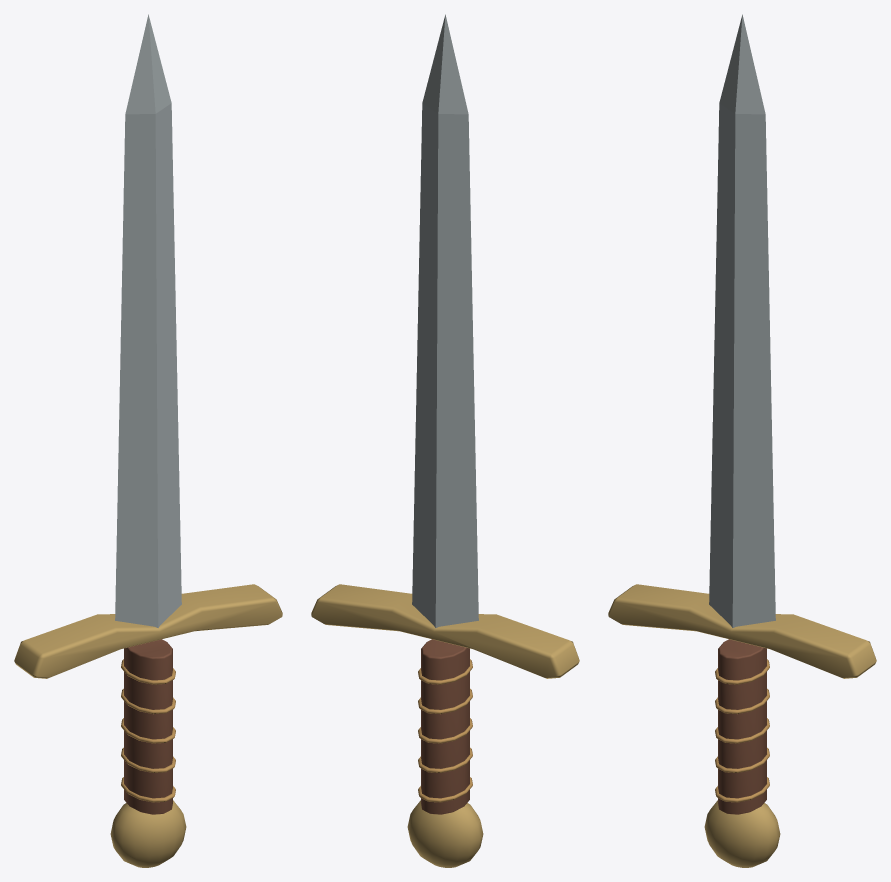
File: P024_foam_sword_rebuilt.glb
3 renders of one model, left to right at view 1: azimuth 30°, elevation 25°; view 2: azimuth 150°, elevation 25°; view 3: azimuth 330°, elevation 25°, orthographic.
Parts seen in each view (by area): view 1: steel, brass, leather, edge; view 2: steel, brass, leather, edge; view 3: steel, brass, leather, edge.
Part boxes in pixels (x1,y1,x2,y2): steel: (115, 14, 181, 627); brass: (14, 584, 282, 867); leather: (124, 639, 172, 814); edge: (121, 659, 175, 802); steel: (412, 14, 478, 627); brass: (311, 584, 579, 867); leather: (421, 639, 469, 814); edge: (418, 659, 472, 802); steel: (709, 14, 775, 627); brass: (608, 584, 876, 867); leather: (718, 639, 766, 814); edge: (715, 659, 769, 802).
Bounding box in the file's own units: 0.255 × 0.8279 × 0.064.
